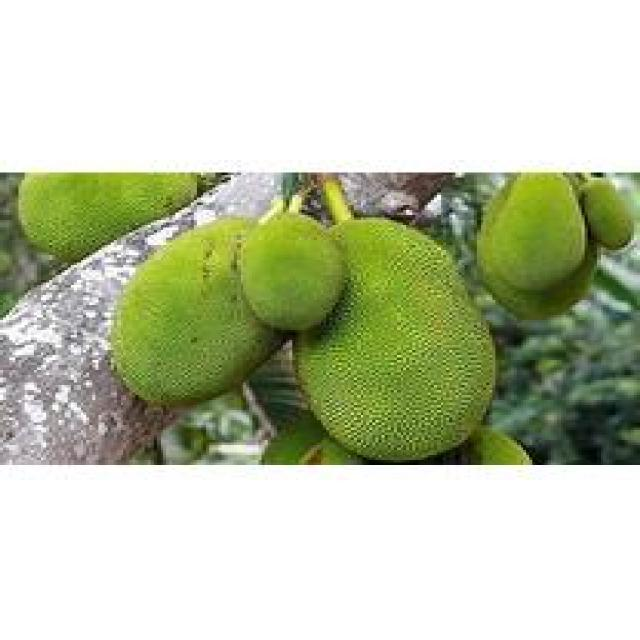Fruit: (277, 198, 511, 468), (92, 195, 314, 423)
